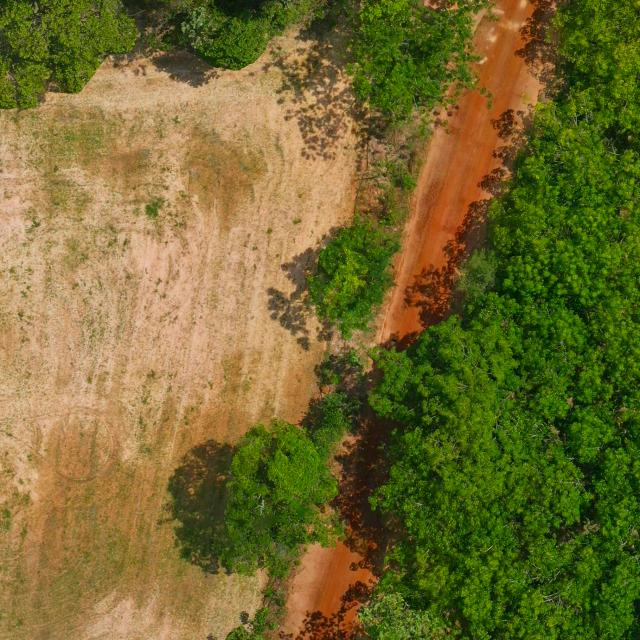Tree: (345, 126, 640, 640), (341, 0, 494, 140), (214, 415, 328, 584), (0, 0, 145, 107), (546, 0, 640, 141), (168, 0, 325, 83), (305, 219, 403, 344), (185, 622, 348, 640)
